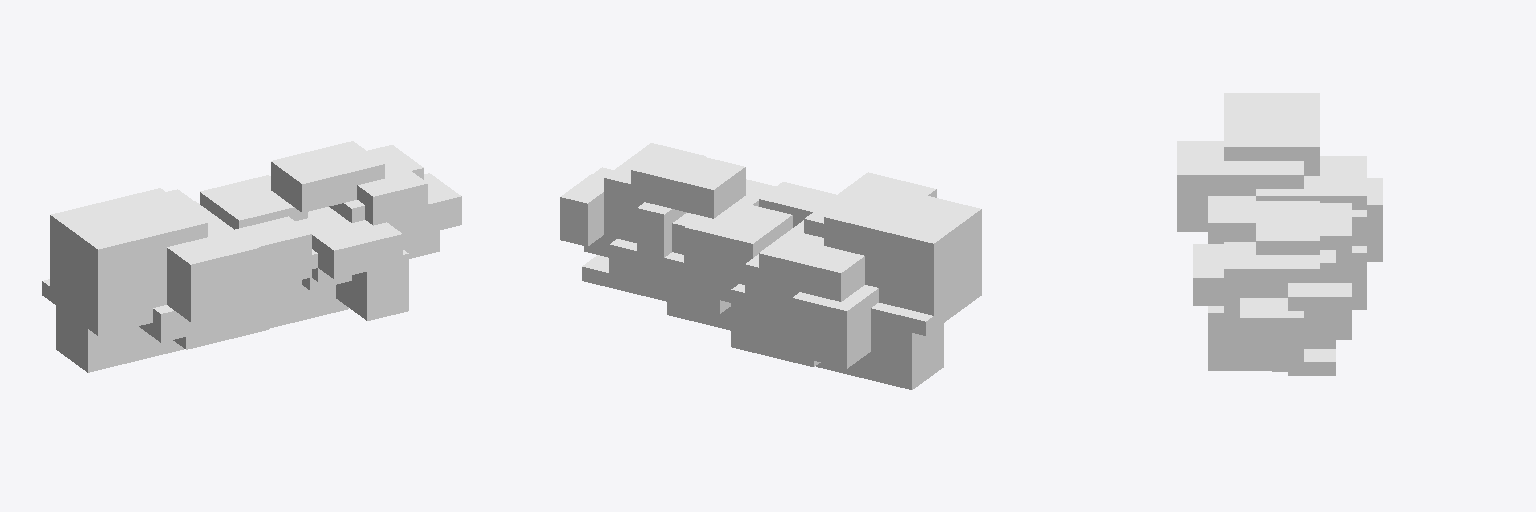
Rendered from stone4.obj.
3 renders of one model, left to right at view 1: azimuth 30°, elevation 25°; view 2: azimuth 150°, elevation 25°; view 3: azimuth 270°, elevation 25°, orthographic.
Bounding box in the file's own units: 27 × 10 × 13.